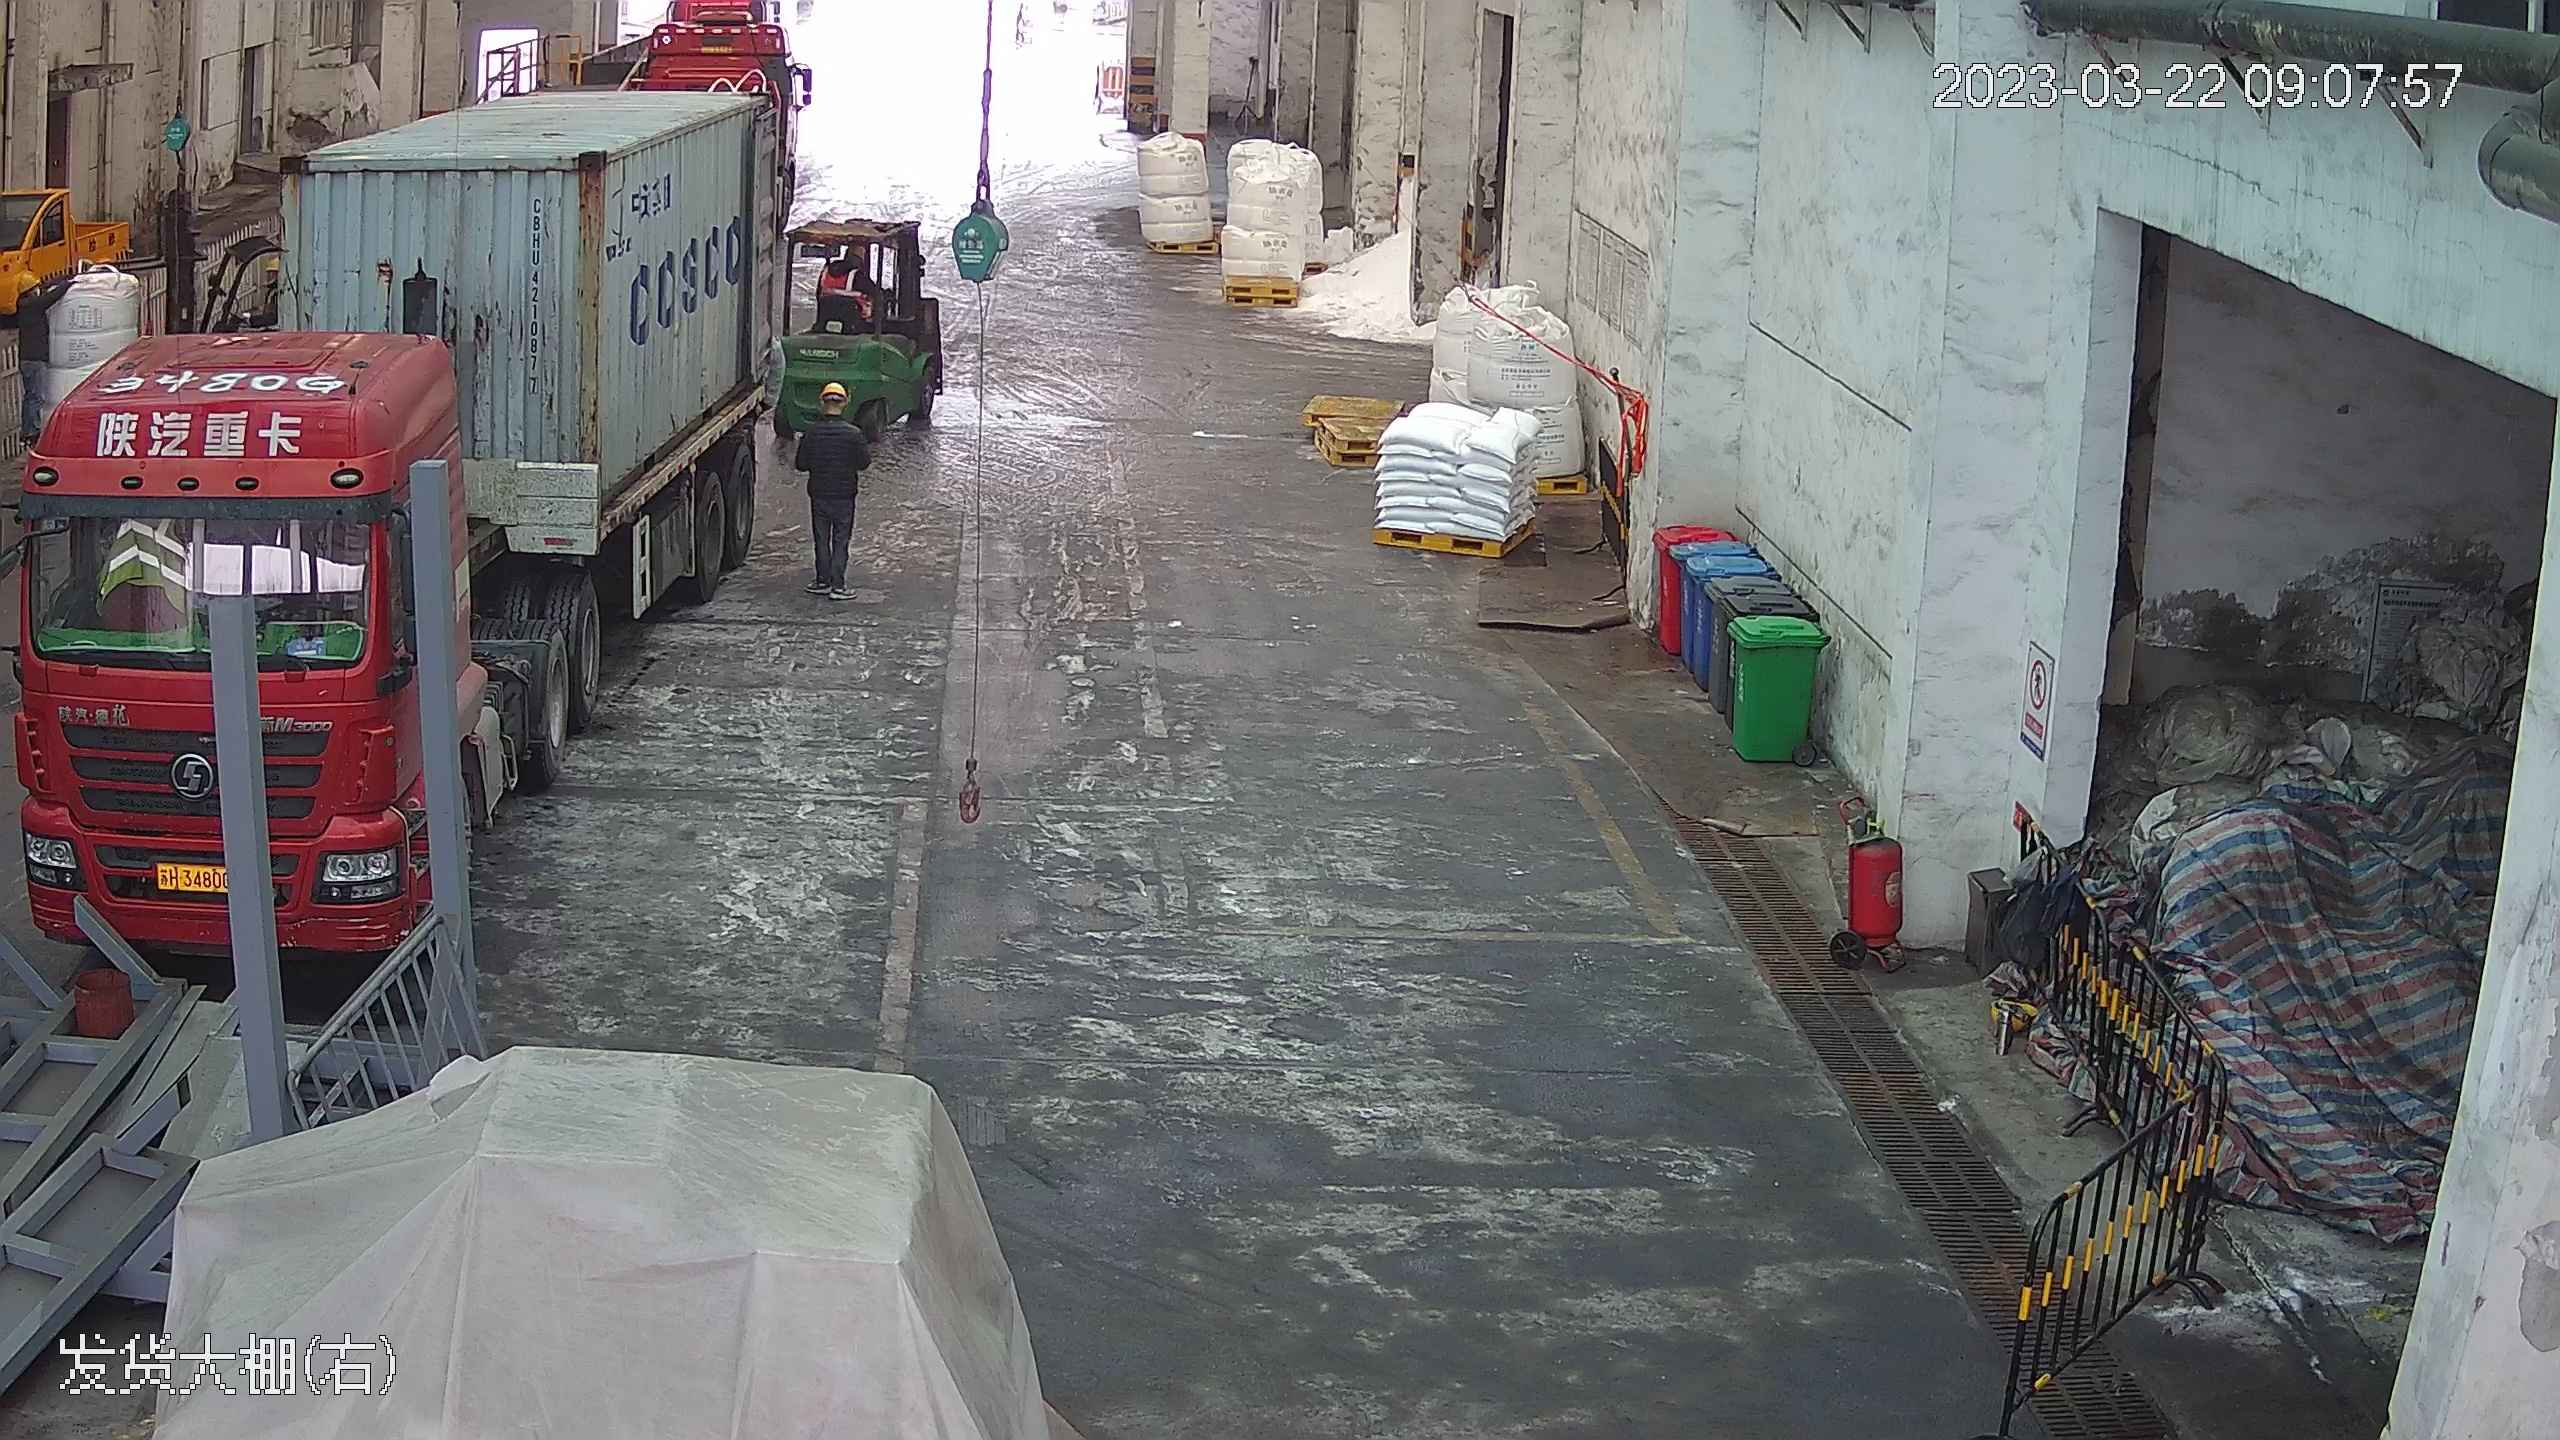head: (804, 379, 863, 448)
helmet: (817, 380, 848, 408)
people: (793, 378, 874, 602), (813, 232, 870, 319)
truck: (11, 33, 776, 970)
